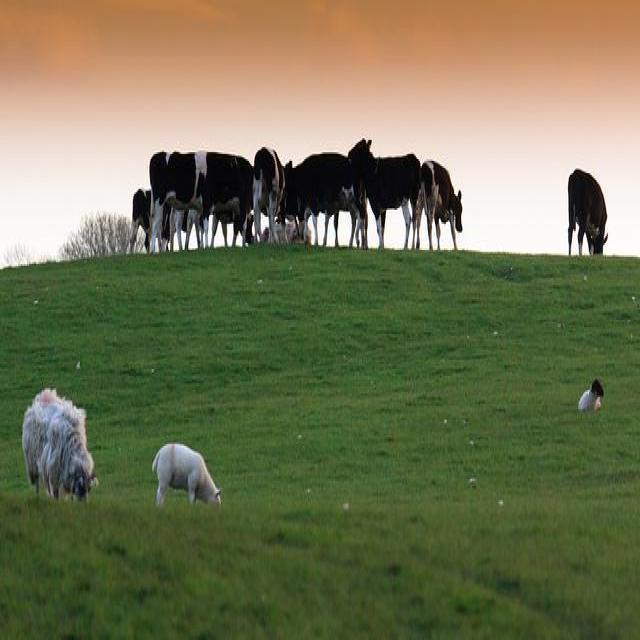Sheep: (21, 390, 100, 505), (152, 444, 222, 507)
